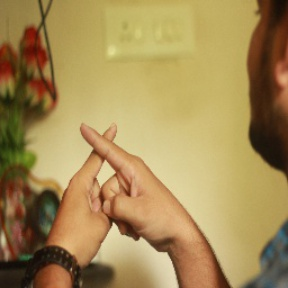X: (59, 109, 148, 198)
